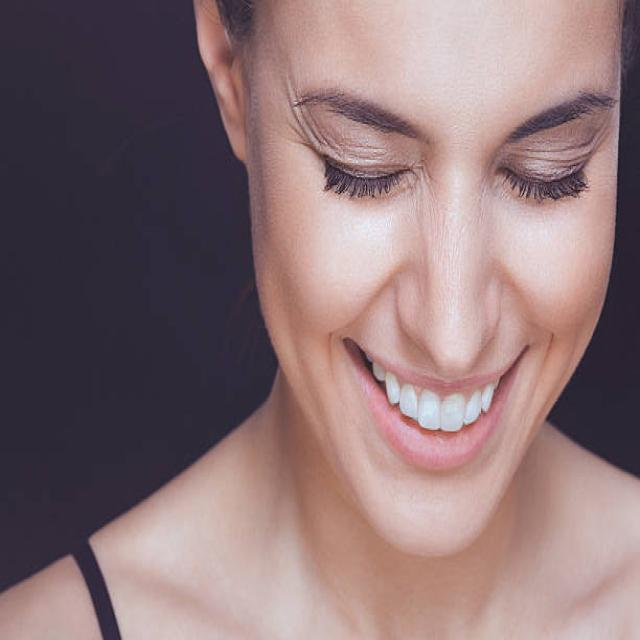dry: (240, 30, 330, 303), (416, 166, 496, 396)
